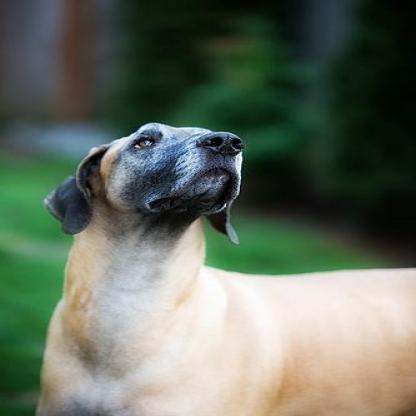Great_Dane: (33, 122, 413, 414)
